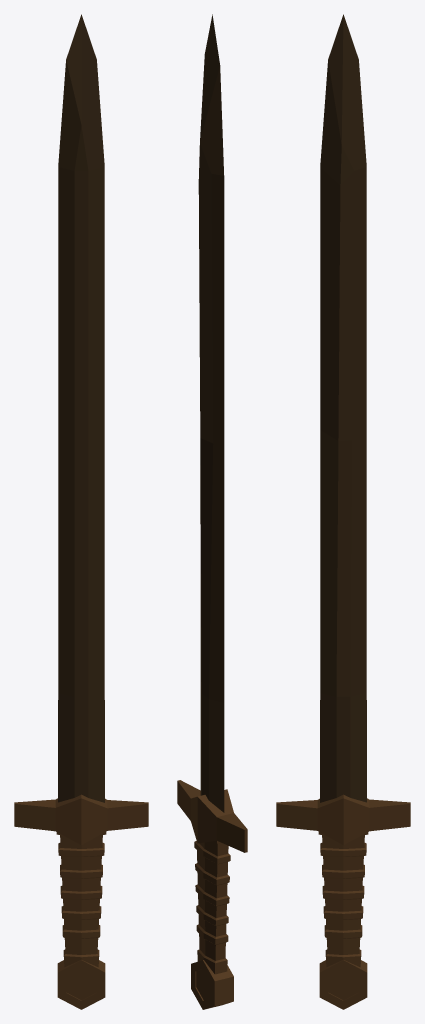
File: sword.fbx
3 views of the same model, side by side, from view 1: azimuth 90°, elevation 25°; view 2: azimuth 210°, elevation 25°; view 3: azimuth 270°, elevation 25° (orthographic).
Visible parts, largest first — view 1: sword; view 2: sword; view 3: sword.
Part boxes in pixels (x1,y1,x2,y2): sword: (14,14,148,1009); sword: (177,14,247,1009); sword: (276,14,410,1009).
Bounding box in the file's own units: 4.79 × 152 × 18.6.
